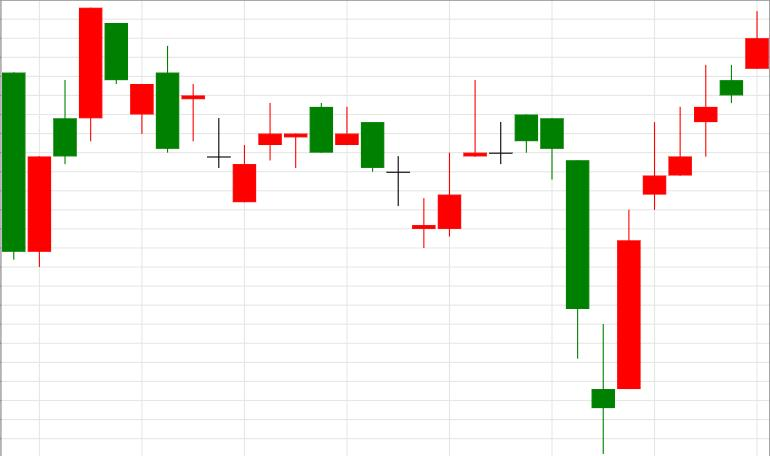morning_star_rise: (515, 115, 641, 453)
